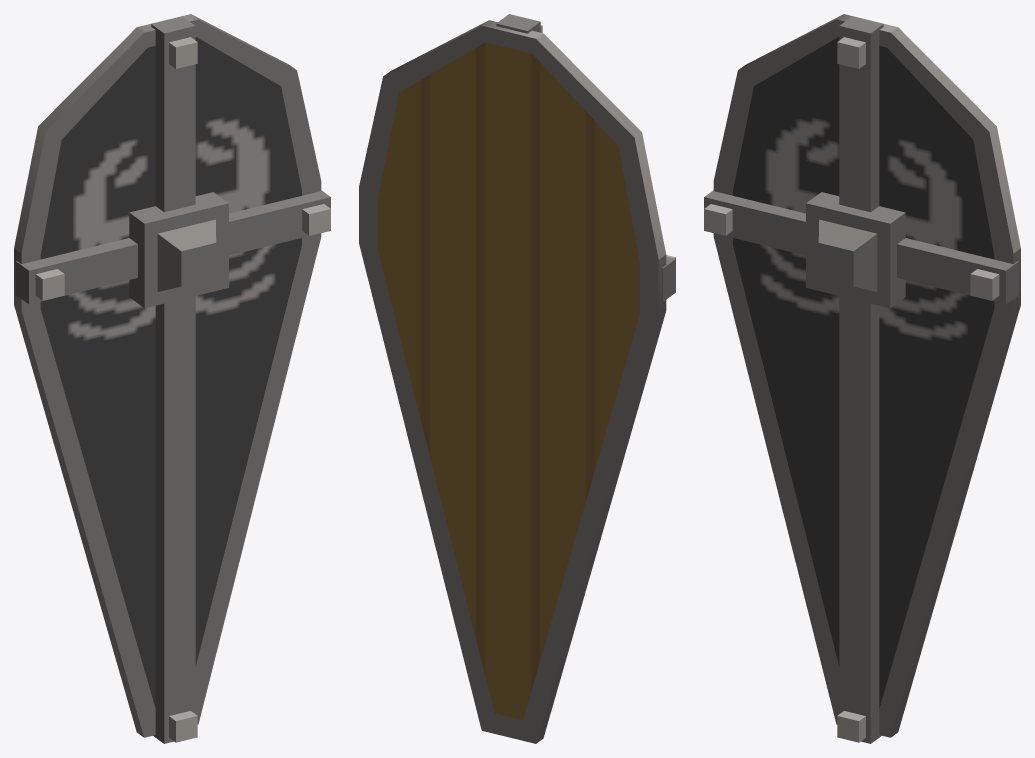
Rendered from SF_Wep_KiteShield_Symbol_06.fbx.
The picture shows the model from 3 angles, left to right: view 1: azimuth 30°, elevation 25°; view 2: azimuth 150°, elevation 25°; view 3: azimuth 330°, elevation 25°; orthographic projection.
Parts seen in each view (by area): view 1: SF_Wep_KiteShield_Symbol_06; view 2: SF_Wep_KiteShield_Symbol_06; view 3: SF_Wep_KiteShield_Symbol_06.
Part boxes in pixels (left/top/right/bottom): SF_Wep_KiteShield_Symbol_06: left=14, top=14, right=330, bottom=743; SF_Wep_KiteShield_Symbol_06: left=359, top=14, right=675, bottom=743; SF_Wep_KiteShield_Symbol_06: left=704, top=14, right=1020, bottom=743.
Bounding box in the file's own units: 0.9946 × 2.24 × 0.1992.
